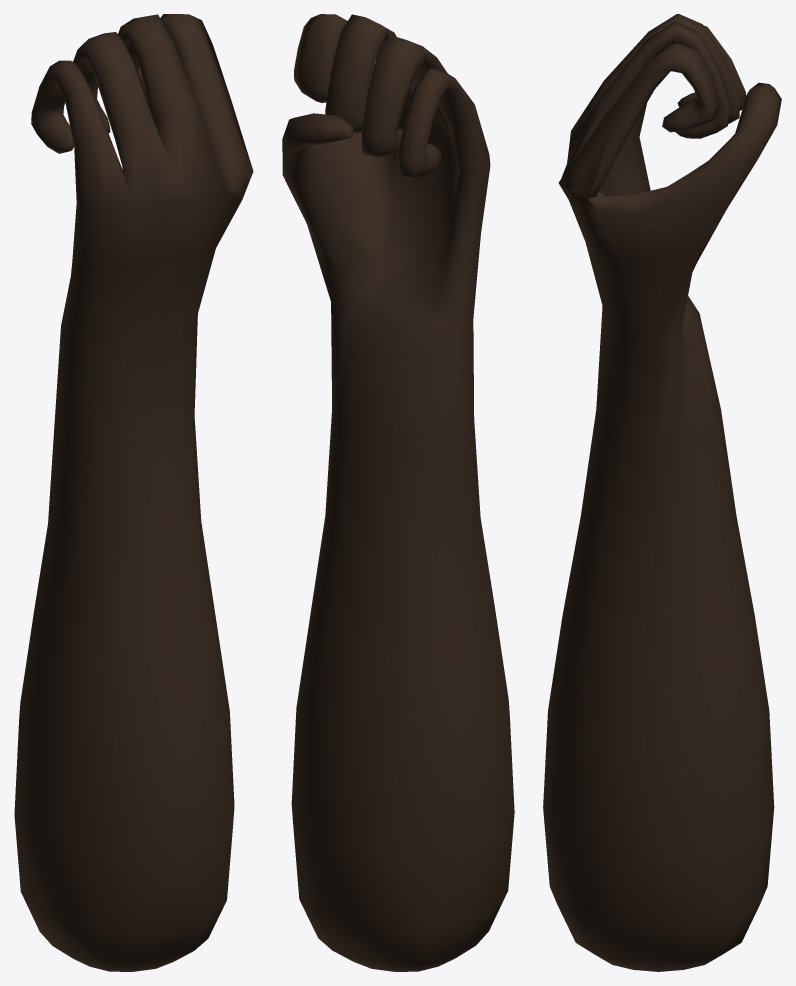
Rendered from armLowerLeft.obj.
3 views of the same model, side by side, from view 1: azimuth 30°, elevation 25°; view 2: azimuth 150°, elevation 25°; view 3: azimuth 270°, elevation 25° (orthographic). The views are drawn at different scales.
Size of the model in its own units: 2.61 by 12.3 by 2.81.
